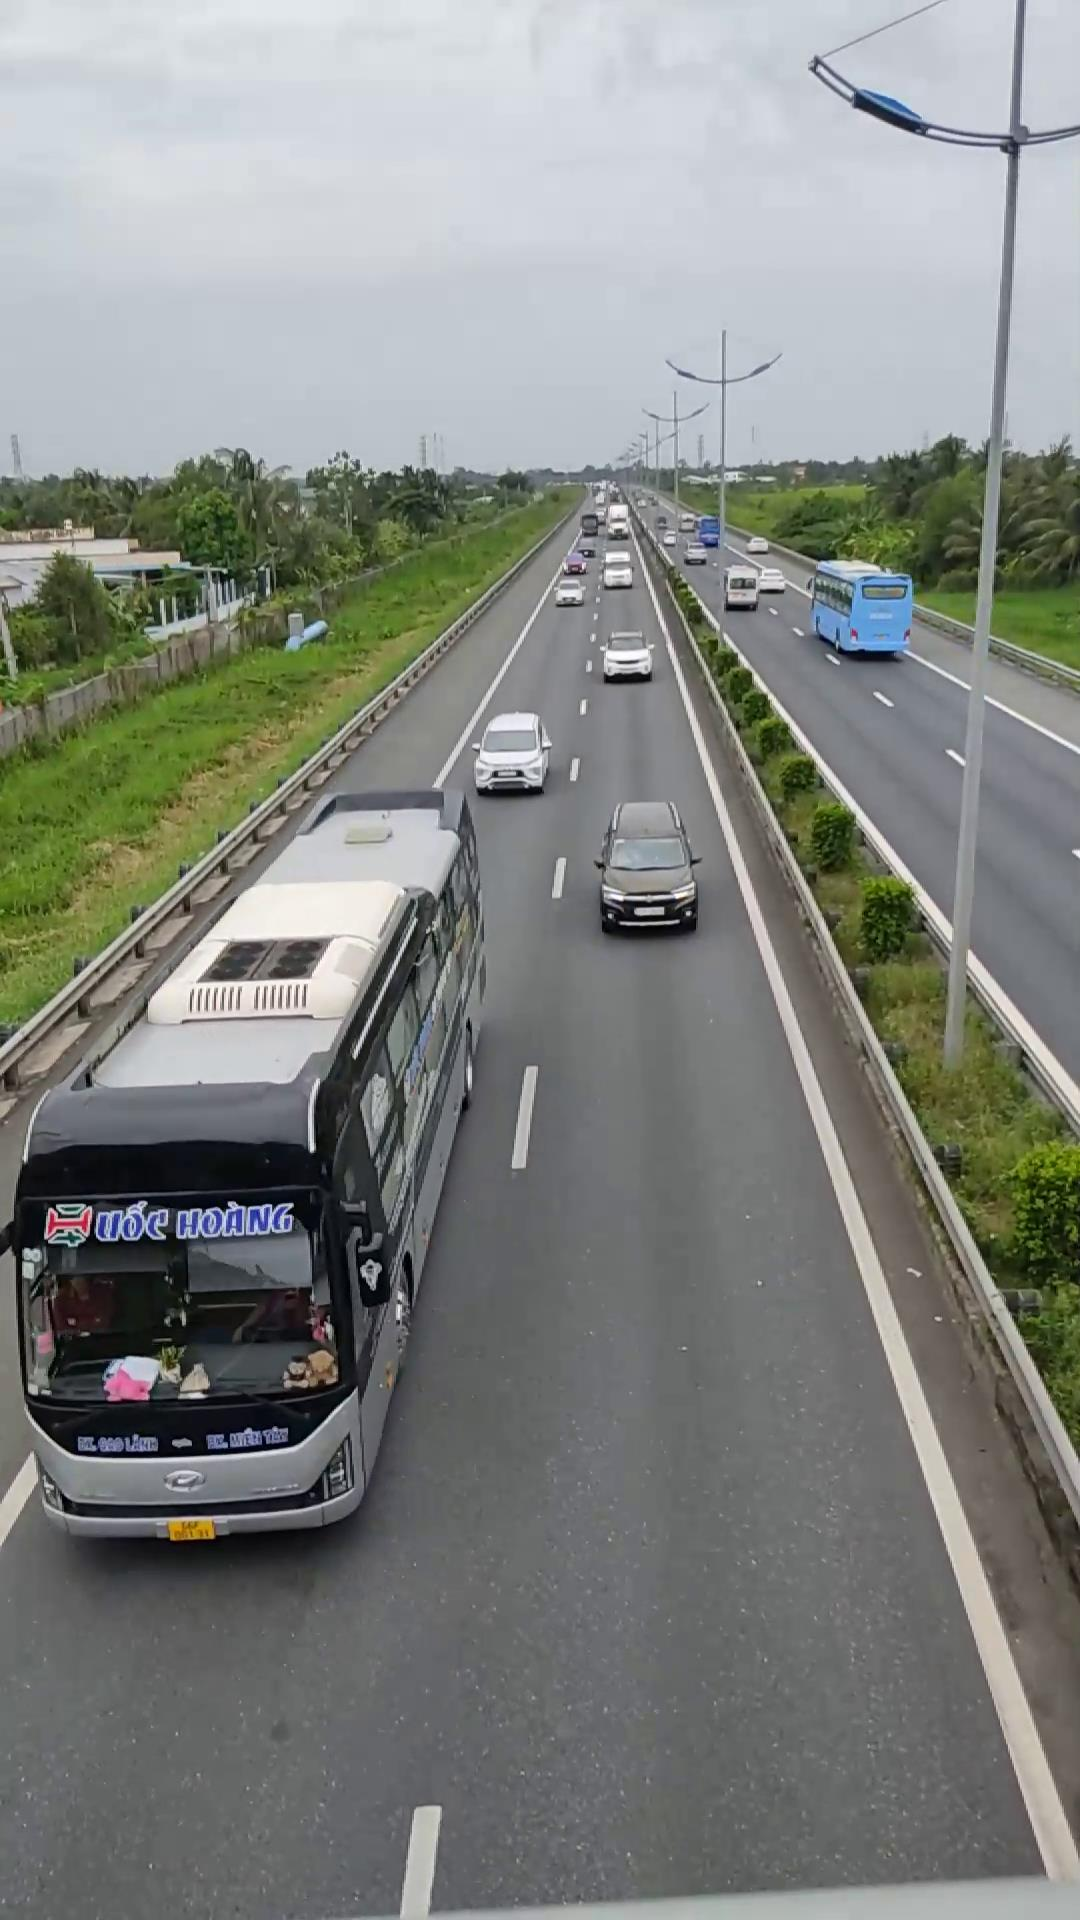bus: (6, 787, 488, 1538)
car: (592, 799, 702, 932), (472, 712, 553, 793)
